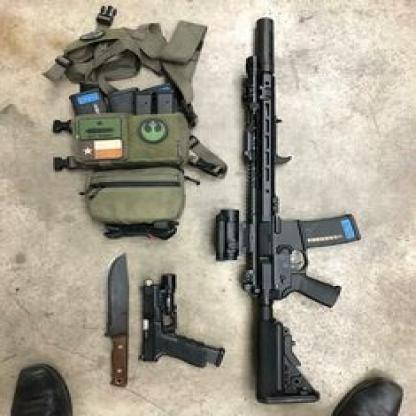Gun: (210, 14, 362, 405)
Knife: (104, 252, 133, 388)
Pistol: (138, 271, 228, 371)
